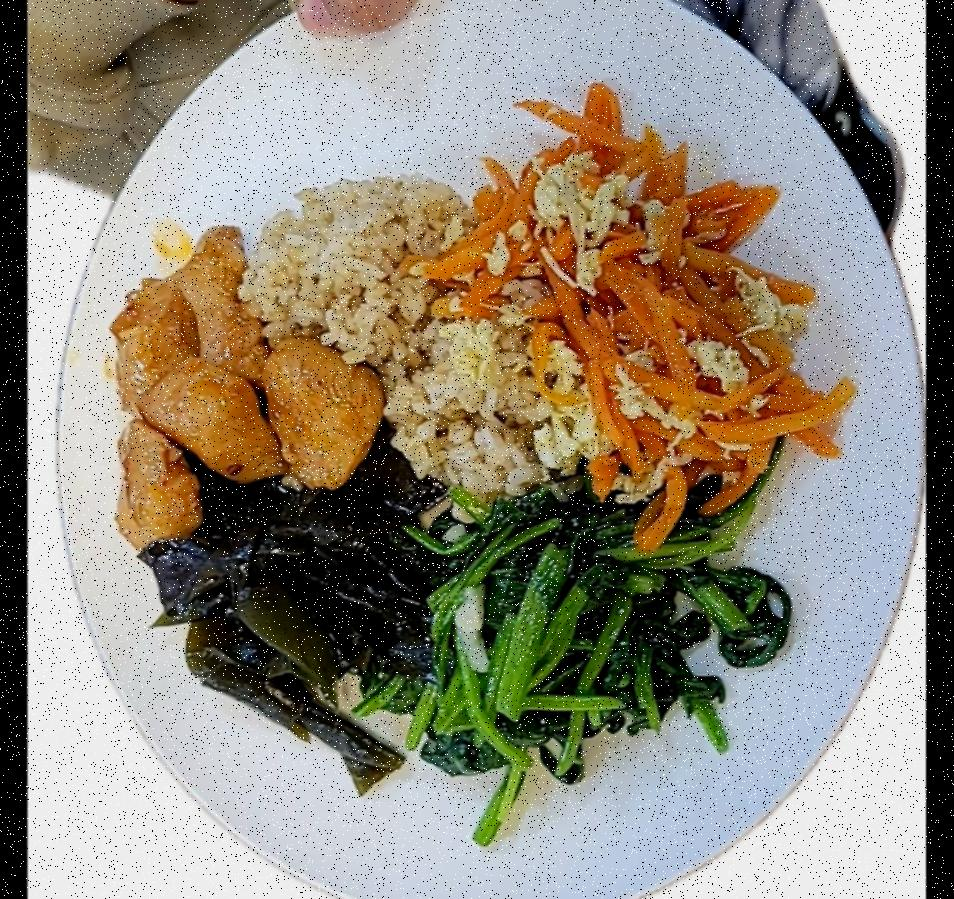big fried chicken leg: (46, 0, 924, 899)
box: (238, 168, 545, 489)
braised fish fillet: (426, 74, 841, 545), (364, 473, 791, 848), (132, 436, 441, 796)
braised pork: (96, 220, 387, 546)
